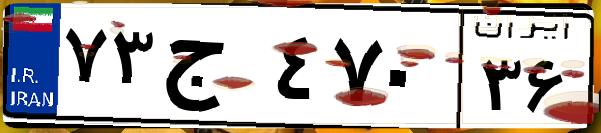0: (385, 28, 445, 110)
3: (475, 38, 525, 113), (110, 28, 158, 98)
4: (270, 28, 330, 110)
6: (525, 38, 570, 115)
7: (330, 28, 385, 110), (57, 26, 110, 100)
ج: (158, 20, 270, 120)
